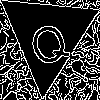Q: (22, 11, 74, 72)
